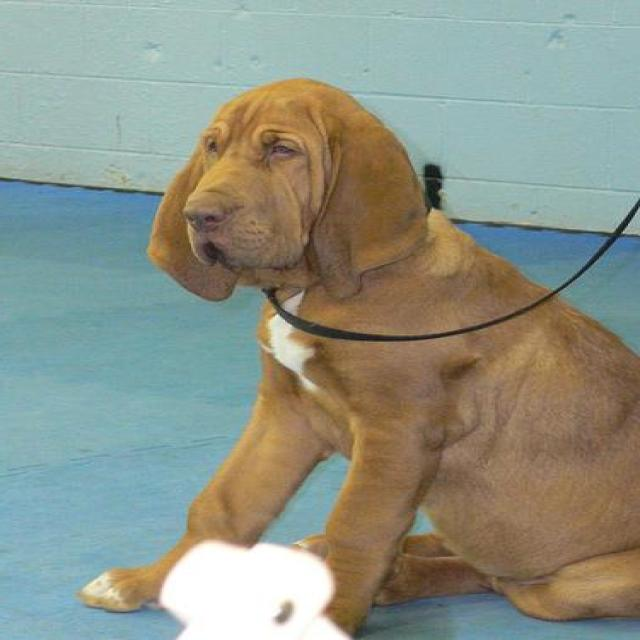bloodhound: (80, 80, 640, 638)
